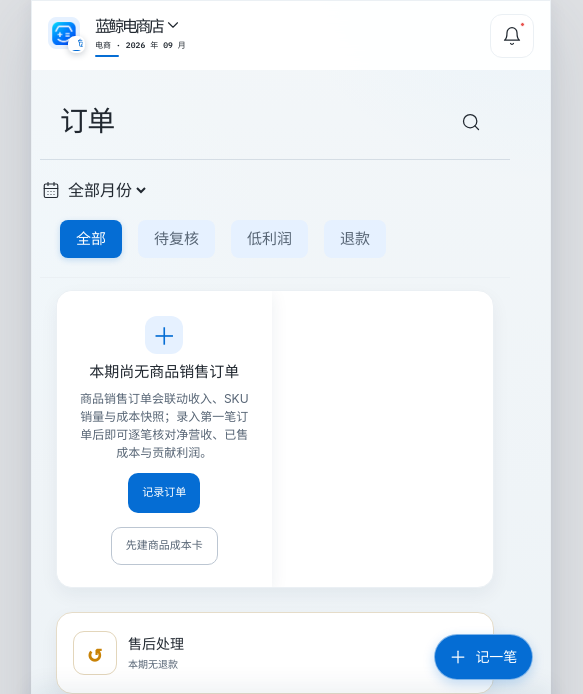
Test: C4 订单页无订单空态：结果—原因—主行动 › 无成本卡时点击次入口进入新建成本卡表单
Expected: the heading "订单" is shown, [60,105,114,139]
Step 1. Click the button "先建商品成本卡" → (164, 546), box [111,526,218,564]
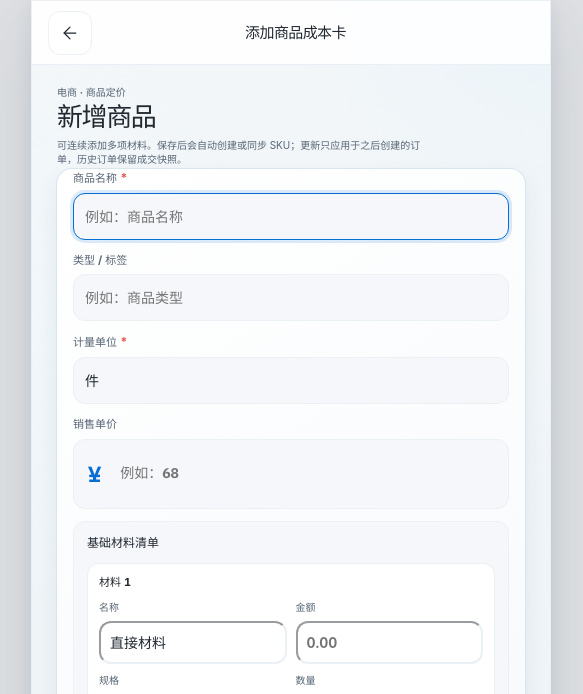
Expected: the heading "新增商品" is shown, [57,101,155,132]
